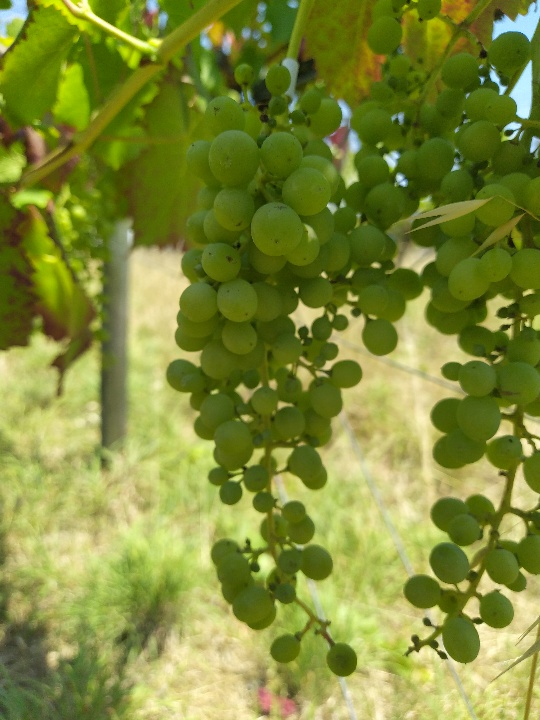grape: (163, 62, 421, 685)
